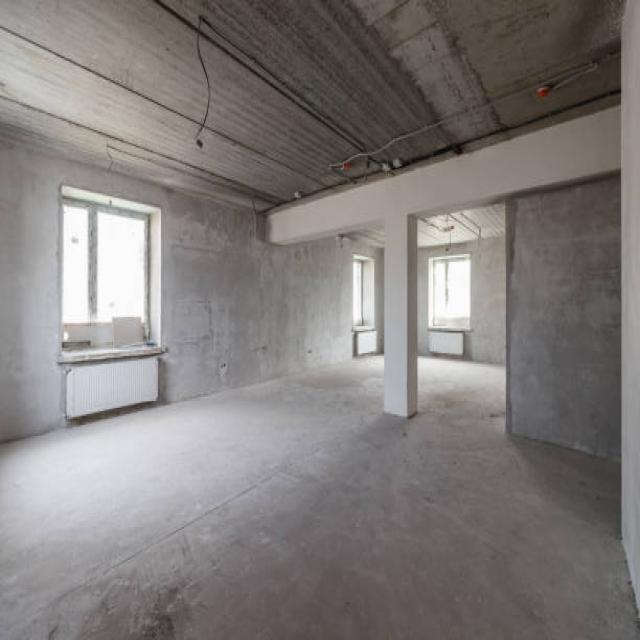floor: (0, 353, 640, 640)
wall: (0, 140, 383, 439), (266, 104, 622, 417), (505, 169, 621, 461), (620, 0, 640, 615), (417, 236, 506, 365), (407, 215, 418, 417)
